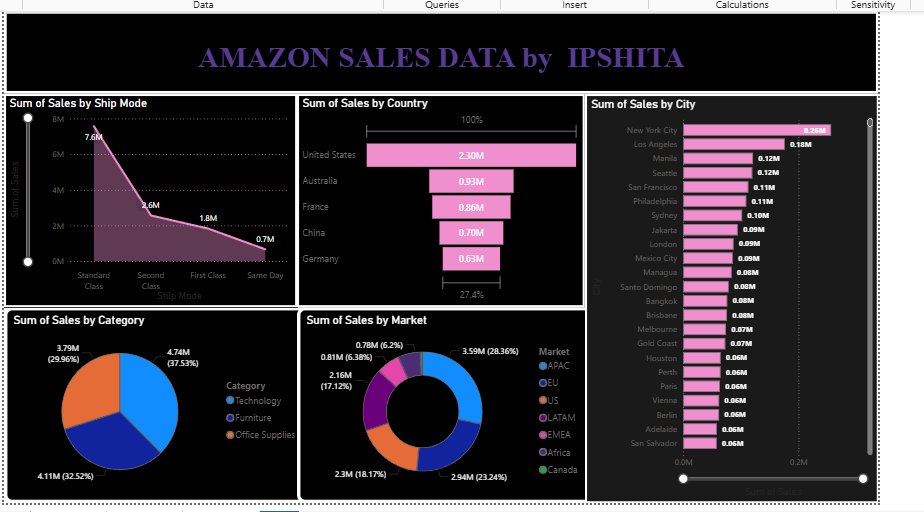

What the dashboard file says about the page in this screenshot:
{"tool":"powerbi","page":{"name":"Page 1","canvas":[1280,720],"ordinal":0},"visuals":[{"type":"pieChart","fields":{"Category":["Orders.Category"],"Y":["Sum(Orders.Sales)"]},"box":[0,433.2,449.3,286.8],"z":0},{"type":"donutChart","fields":{"Category":["Orders.Market"],"Y":["Sum(Orders.Sales)"]},"box":[428.8,433.2,434.6,286.8],"z":1000},{"type":"areaChart","fields":{"Category":["Orders.Ship Mode"],"Y":["Sum(Orders.Sales)"]},"box":[0,121.5,428.8,311.7],"z":2000},{"type":"barChart","fields":{"Category":["Orders.City"],"Y":["Sum(Orders.Sales)"]},"box":[850.2,121.5,430.2,598.5],"z":3000},{"type":"funnel","fields":{"Category":["Orders.Country"],"Y":["Sum(Orders.Sales)"]},"box":[428.8,121.5,421.5,311.7],"z":4000},{"type":"textbox","box":[0,0,1280.5,121.5],"z":5000}]}

Visuals, with their boxes in screenshot pixels (x1, y1, x2, y2):
pieChart - Orders.Category x Sum(Orders.Sales): x1=5, y1=303, x2=309, y2=497
donutChart - Orders.Market x Sum(Orders.Sales): x1=295, y1=303, x2=589, y2=497
areaChart - Orders.Ship Mode x Sum(Orders.Sales): x1=5, y1=92, x2=295, y2=303
barChart - Orders.City x Sum(Orders.Sales): x1=580, y1=92, x2=872, y2=497
funnel - Orders.Country x Sum(Orders.Sales): x1=295, y1=92, x2=581, y2=303
textbox: x1=5, y1=10, x2=872, y2=92
